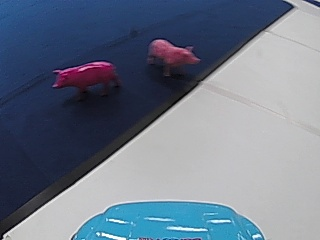pig: (50, 55, 117, 101), (146, 35, 199, 79)
